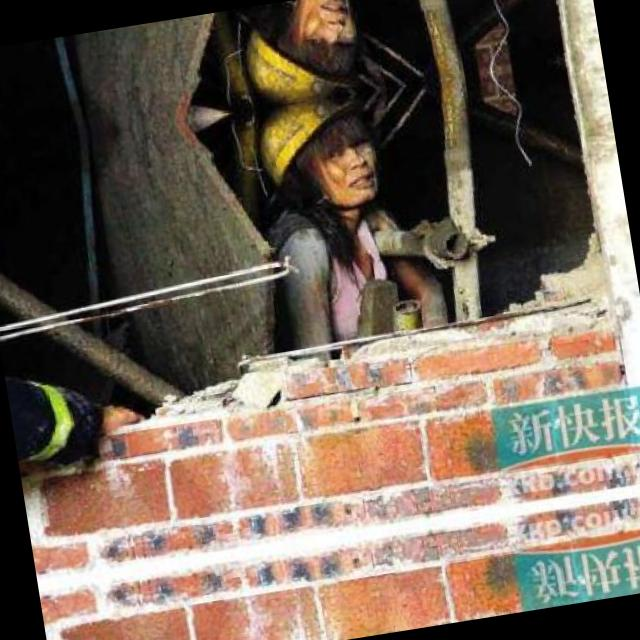helmet: (232, 92, 392, 232), (215, 0, 374, 108)
